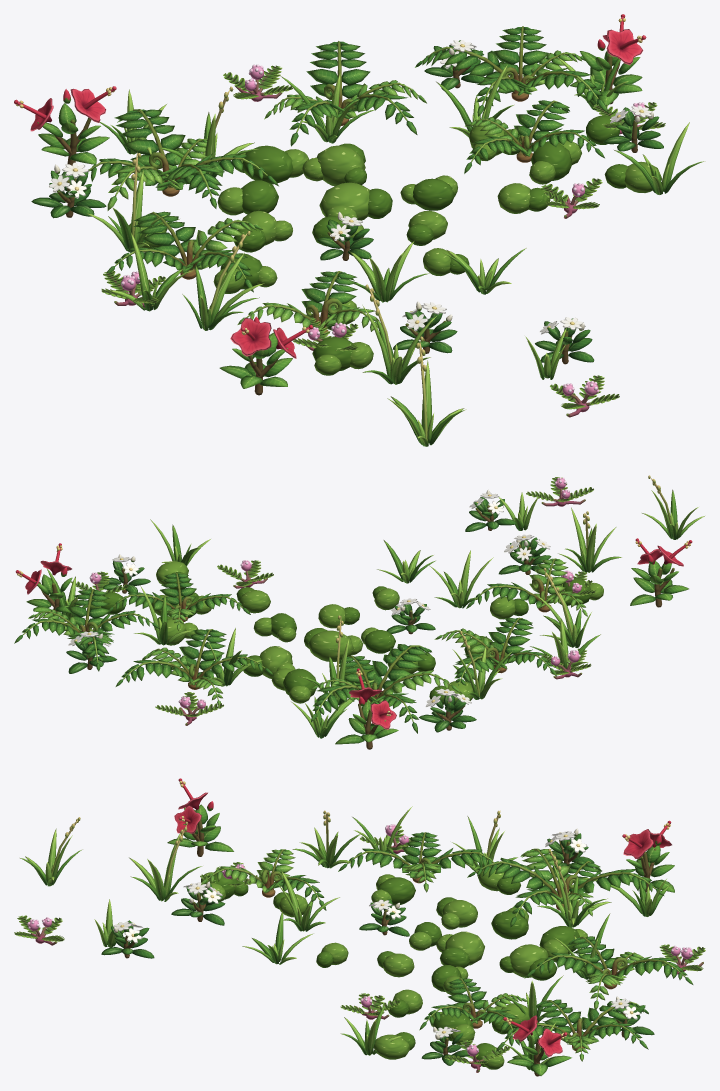
File: meadow.glb
3 renders of one model, top to bottom at view 1: azimuth 30°, elevation 25°; view 2: azimuth 150°, elevation 25°; view 3: azimuth 270°, elevation 25°, orthographic. The views are drawn at different scales.
Parts seen in each view (by area): view 1: gum-0, moss-0, moss-2, grass-3, gum-2, moss-5, gum-1, moss-17, grass-9, grass-1, moss-10, moss-1 (+36 smaller); view 2: gum-2, moss-0, grass-1, gum-0, moss-5, samp-2, grass-3, moss-2, gum-1, grass-6, grass-0, grass-9 (+32 smaller); view 3: moss-0, moss-2, gum-2, grass-1, grass-12, gum-0, moss-4, grass-3, grass-9, moss-14, samp-0, gum-1 (+33 smaller).
Boxes of the visible parts, x1,y1,x2,y2 form: gum-0: (37, 89, 109, 165); moss-0: (319, 182, 392, 220); moss-2: (302, 143, 366, 186); grass-3: (182, 231, 264, 330); gum-2: (219, 316, 292, 395); moss-5: (234, 145, 308, 184); gum-1: (570, 39, 642, 105); moss-17: (312, 337, 373, 375); grass-9: (387, 336, 466, 446); grass-1: (362, 284, 436, 384); moss-10: (529, 140, 581, 184); moss-1: (217, 180, 278, 215); gum-2: (630, 554, 688, 607); moss-0: (304, 628, 362, 661); grass-1: (558, 507, 621, 572); gum-0: (335, 696, 398, 749); moss-5: (271, 668, 316, 703); samp-2: (419, 695, 476, 732); grass-3: (535, 568, 591, 647); moss-2: (241, 646, 295, 678); gum-1: (26, 567, 80, 615); grass-6: (452, 631, 512, 699); grass-0: (429, 550, 493, 608); grass-9: (642, 475, 704, 539); moss-0: (436, 931, 484, 967); moss-2: (499, 944, 557, 980); gum-2: (167, 801, 233, 856); grass-1: (129, 821, 202, 901); grass-12: (537, 849, 611, 927); gum-0: (618, 835, 674, 892); moss-4: (436, 897, 477, 929); grass-3: (292, 810, 361, 868); grass-9: (20, 817, 82, 886); moss-14: (371, 874, 415, 905); samp-0: (171, 881, 225, 925); gum-1: (507, 1020, 571, 1076).
Size of the model in its own units: 5.13 by 0.8673 by 6.07.
1 material, 1 textured.
